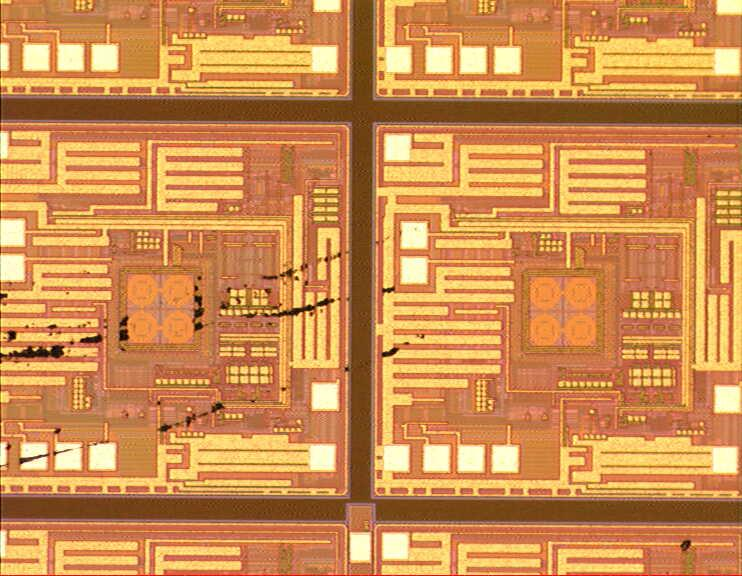SCRATCH: (1, 210, 477, 478)
